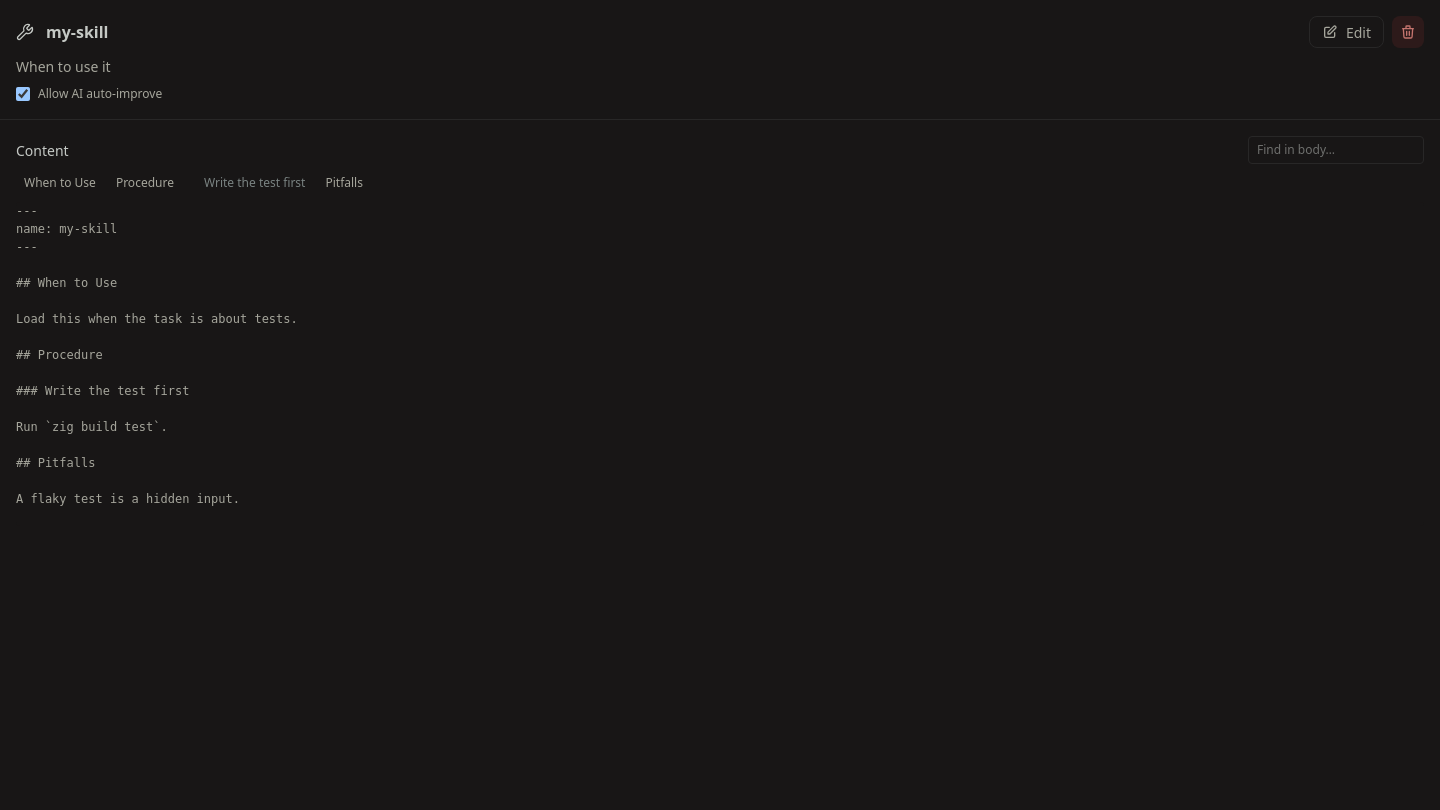
Test: SkillDetail — finding text in the body › highlights the matching lines in the body
The width and height of the screenshot is (1440, 810).
Type "flaky" into the field with test id "skill-body-find" at (1336, 150), box [1248,136,1424,164]
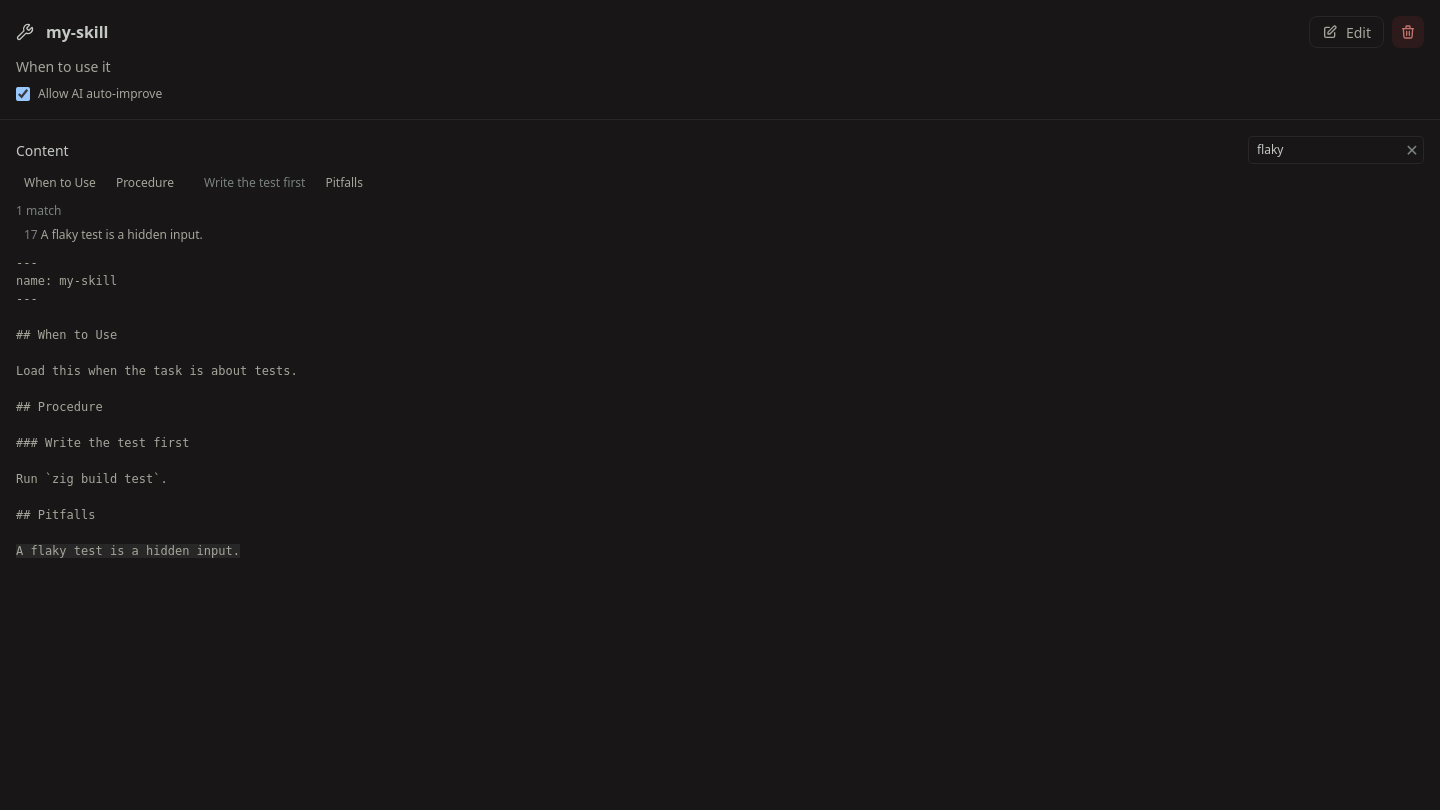
expect the text with class "body-line-hit" reads "A flaky test is a hidden input.": met, box [16,544,240,558]
expect the number of elements with class "body-line-hit" is 1: met, box [16,544,240,558]
